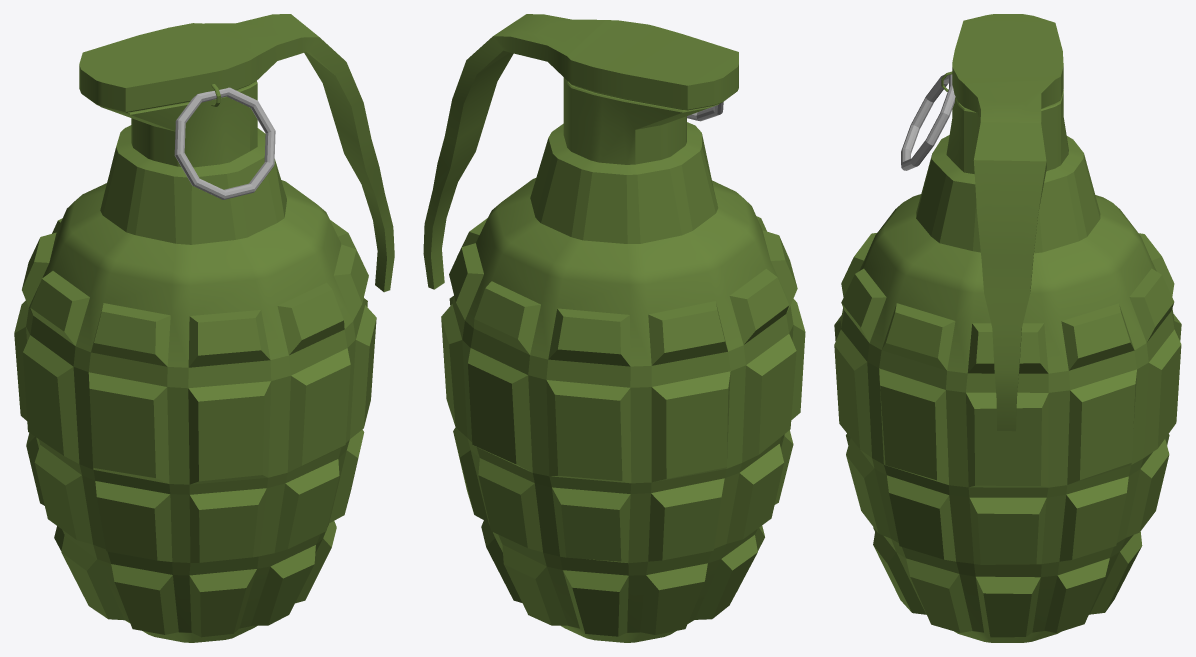
The model's file is Grenade.fbx.
3 renders of one model, left to right at view 1: azimuth 30°, elevation 25°; view 2: azimuth 150°, elevation 25°; view 3: azimuth 270°, elevation 25°, orthographic. The views are drawn at different scales.
Visible parts, largest first — view 1: Grenade2; view 2: Grenade2; view 3: Grenade2.
Boxes of the visible parts, x1,y1,x2,y2 form: Grenade2: (14,14,394,642); Grenade2: (423,14,805,642); Grenade2: (834,14,1181,642).
Size of the model in its own units: 7.04 by 10.89 by 6.21.
